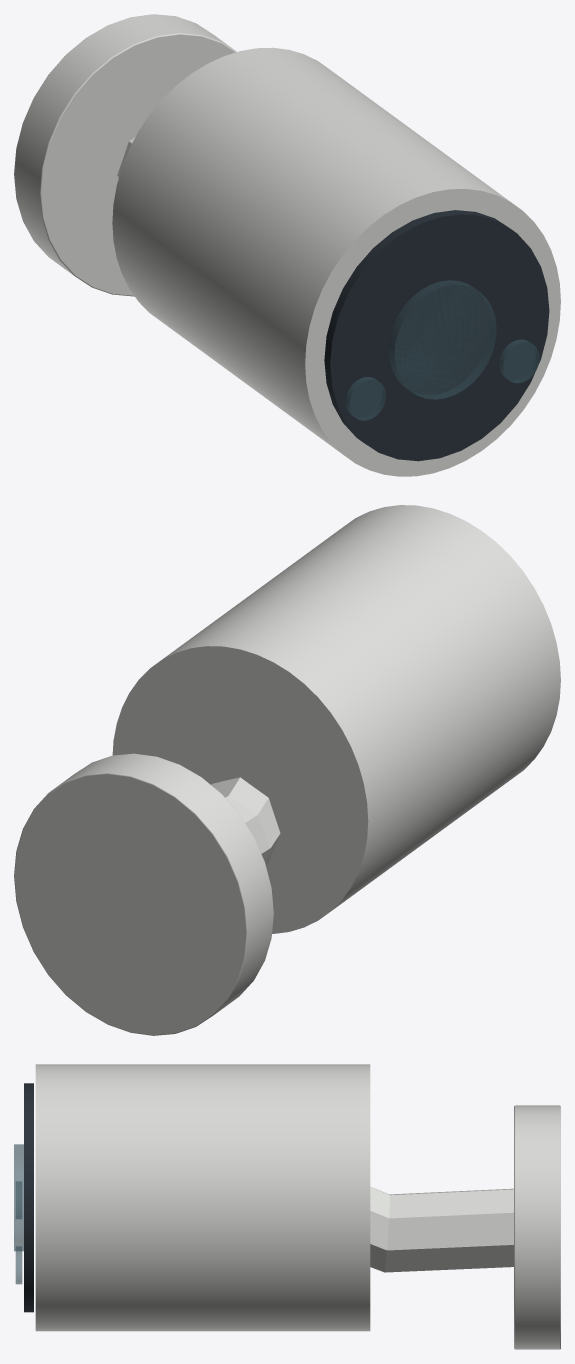
The model's file is unifi-g6-bullet.glb.
3 views of the same model, one above another, from view 1: azimuth 30°, elevation 25°; view 2: azimuth 150°, elevation 25°; view 3: azimuth 270°, elevation 25° (orthographic). The views are drawn at different scales.
Visible parts, largest first — view 1: catalog_surface_RealismUV, catalog_surface_UVMap; view 2: catalog_surface_RealismUV; view 3: catalog_surface_RealismUV, catalog_surface_UVMap.
Part boxes in pixels (bbox=[...]): catalog_surface_RealismUV: bbox=[14, 14, 560, 476]; catalog_surface_UVMap: bbox=[345, 280, 539, 420]; catalog_surface_RealismUV: bbox=[14, 505, 560, 1035]; catalog_surface_RealismUV: bbox=[24, 1064, 560, 1349]; catalog_surface_UVMap: bbox=[14, 1144, 23, 1284].
Size of the model in its own units: 0.075 by 0.085 by 0.16.
